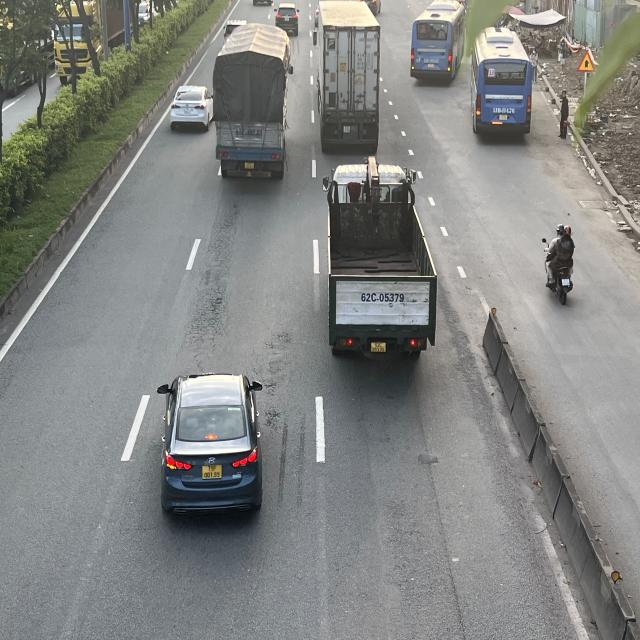car: (159, 371, 265, 516), (171, 82, 214, 131), (273, 1, 300, 34)
coach: (469, 28, 534, 138), (410, 0, 467, 81)
container: (313, 0, 383, 154)
truck: (326, 161, 441, 368), (215, 26, 296, 183)
